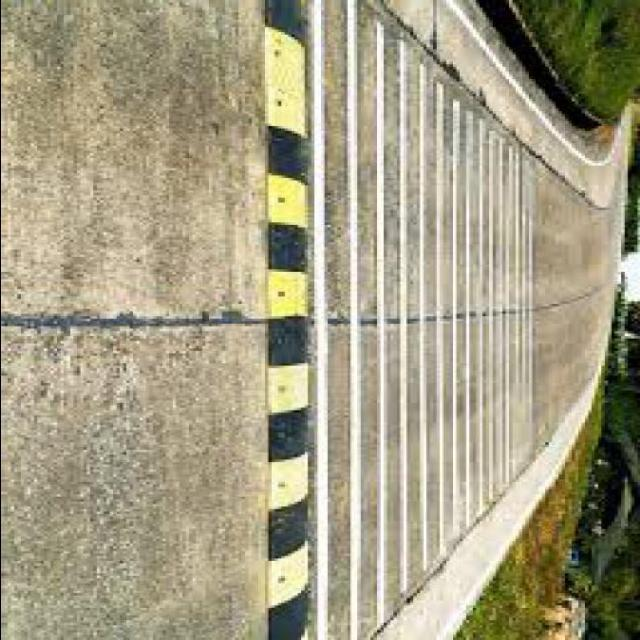speedbreaker: (246, 0, 326, 640)
